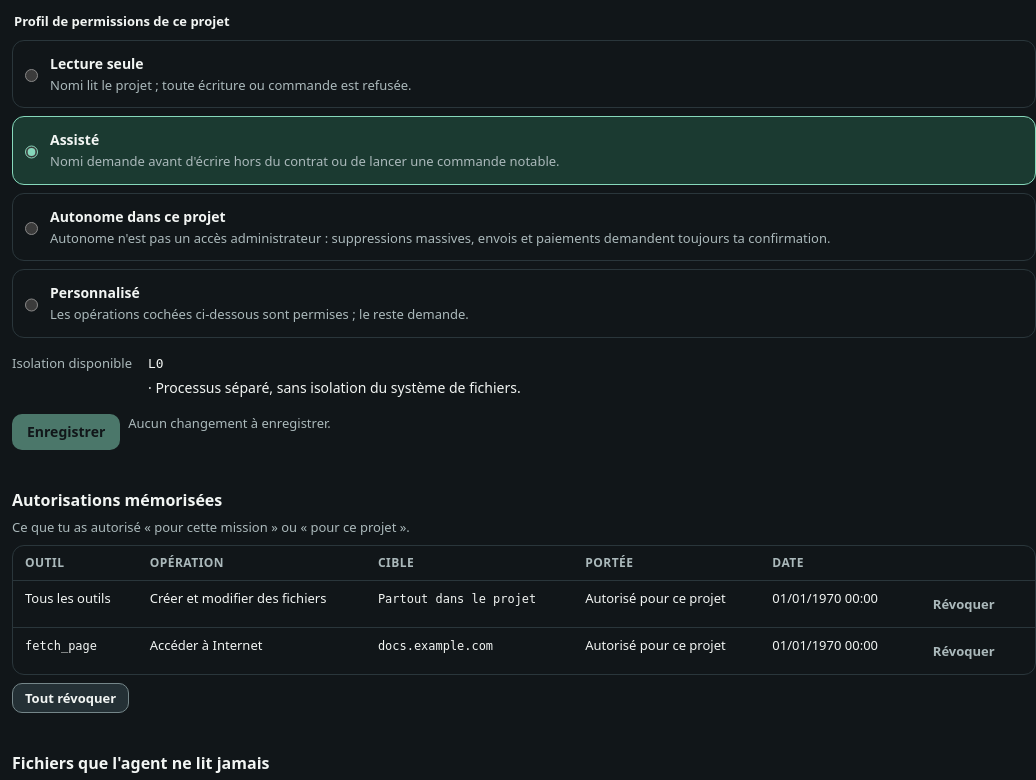
Test: PermissionsSection › lists the rules remembered for the project and revokes one, then all after confirming
Check: the text "docs.example.com" is shown, box x1=378 y1=639 x2=493 y2=653
Click the button "Révoquer" in the row of "Tous les outils": (964, 604) x1=920 y1=589 x2=1008 y2=619
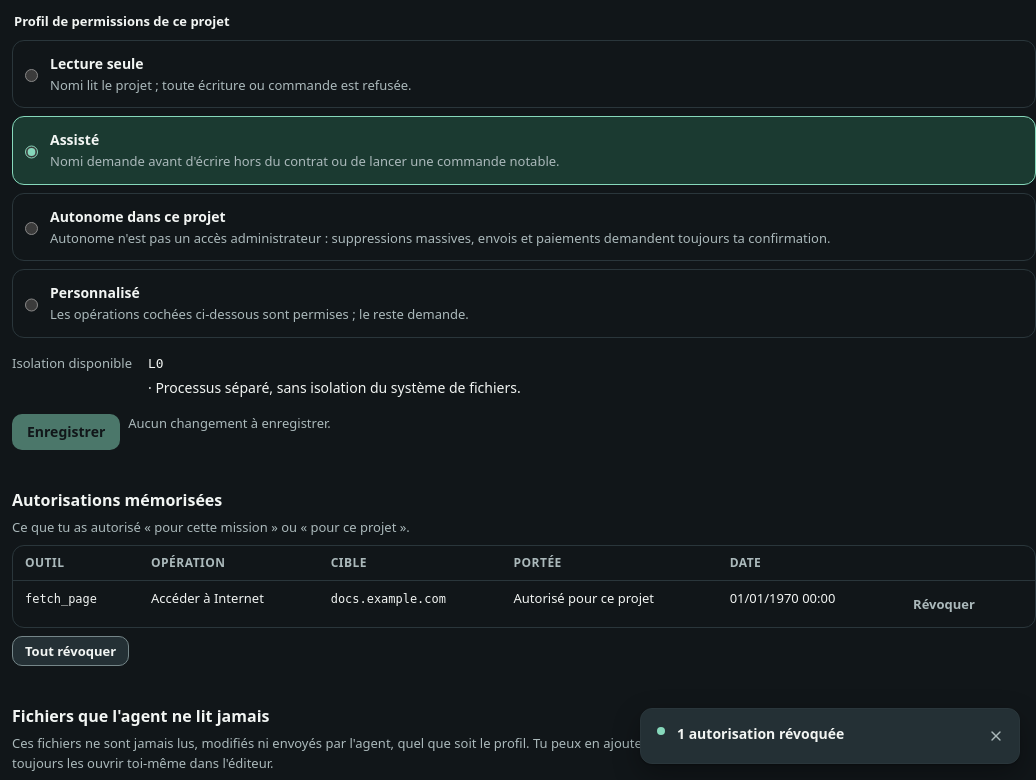
Check: the text "docs.example.com" is shown, box x1=331 y1=592 x2=446 y2=606
Click the button "Tout révoquer": (71, 651) x1=12 y1=636 x2=129 y2=666
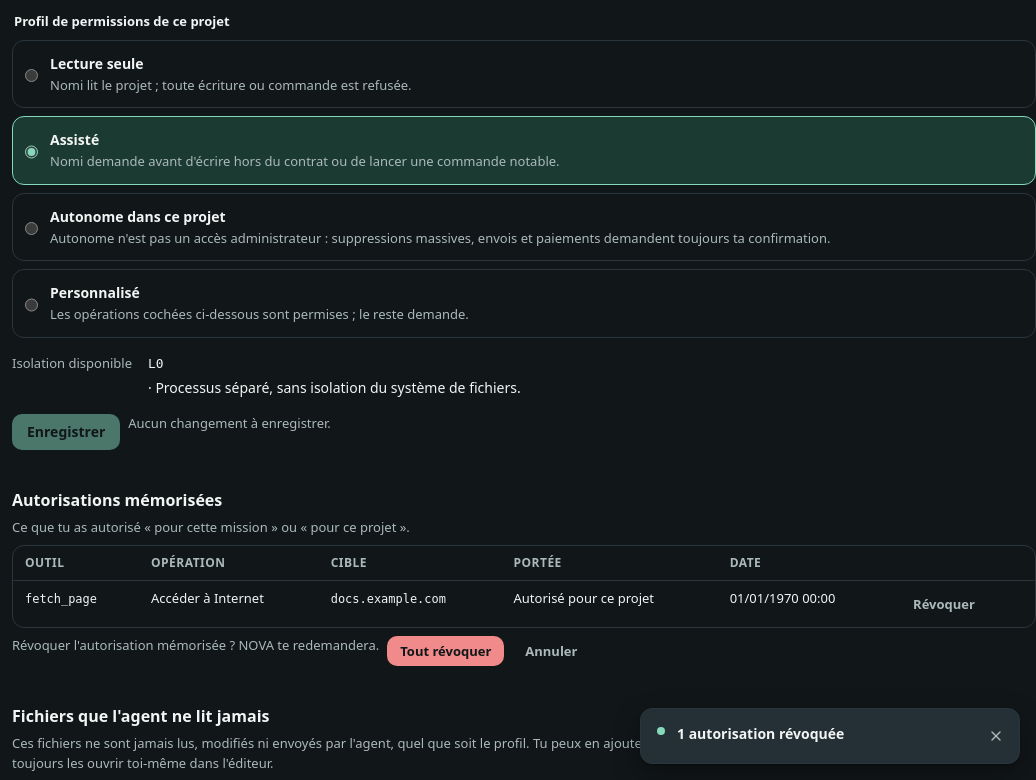
Check: the text "Révoquer l'autorisation mémorisée ? NOVA te redemandera." is shown, box x1=12 y1=636 x2=379 y2=666
Click the button "Tout révoquer": (446, 651) x1=387 y1=636 x2=504 y2=666
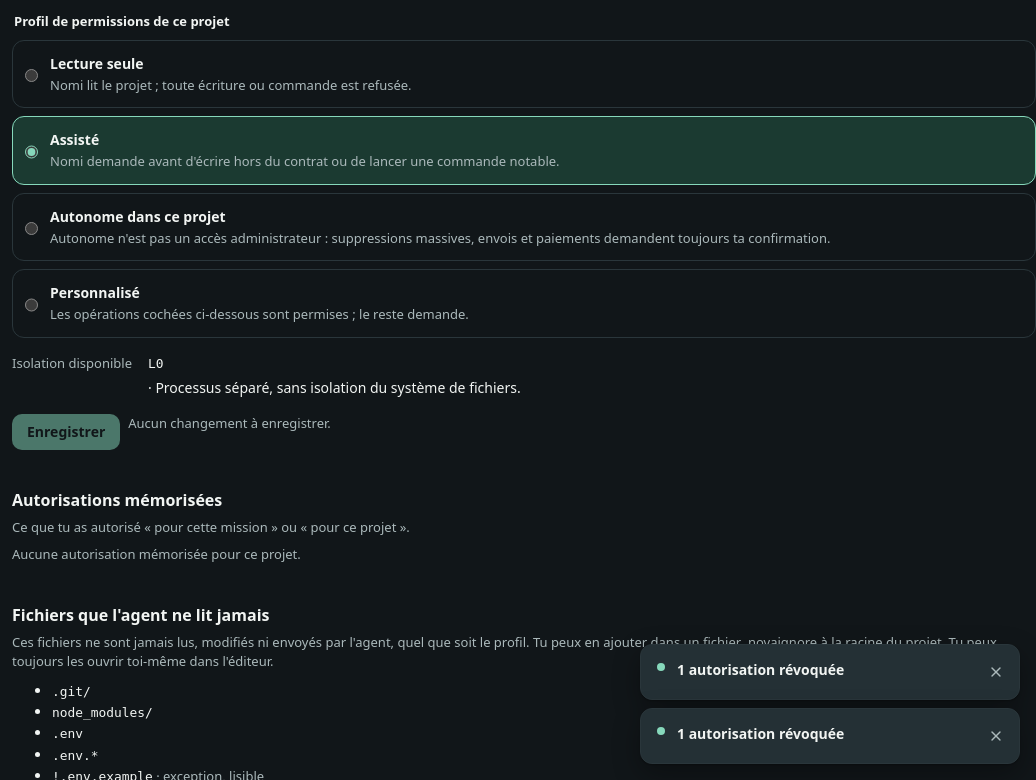
Check: the text ".env" is shown, box x1=52 y1=726 x2=83 y2=741
Check: the text "Aucune autorisation mémorisée pour ce projet." is shown, box x1=12 y1=545 x2=301 y2=563
